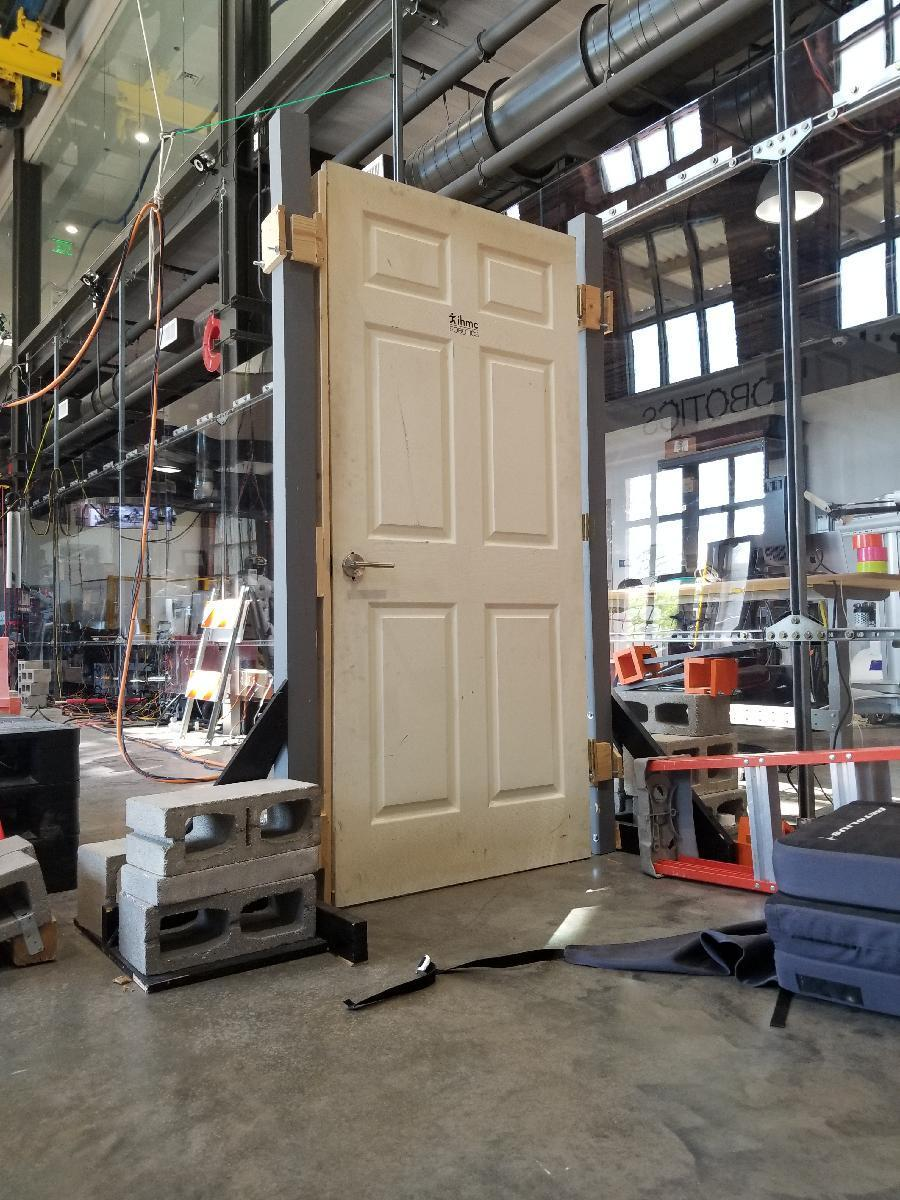door: (334, 156, 602, 896)
handle: (345, 544, 400, 586)
